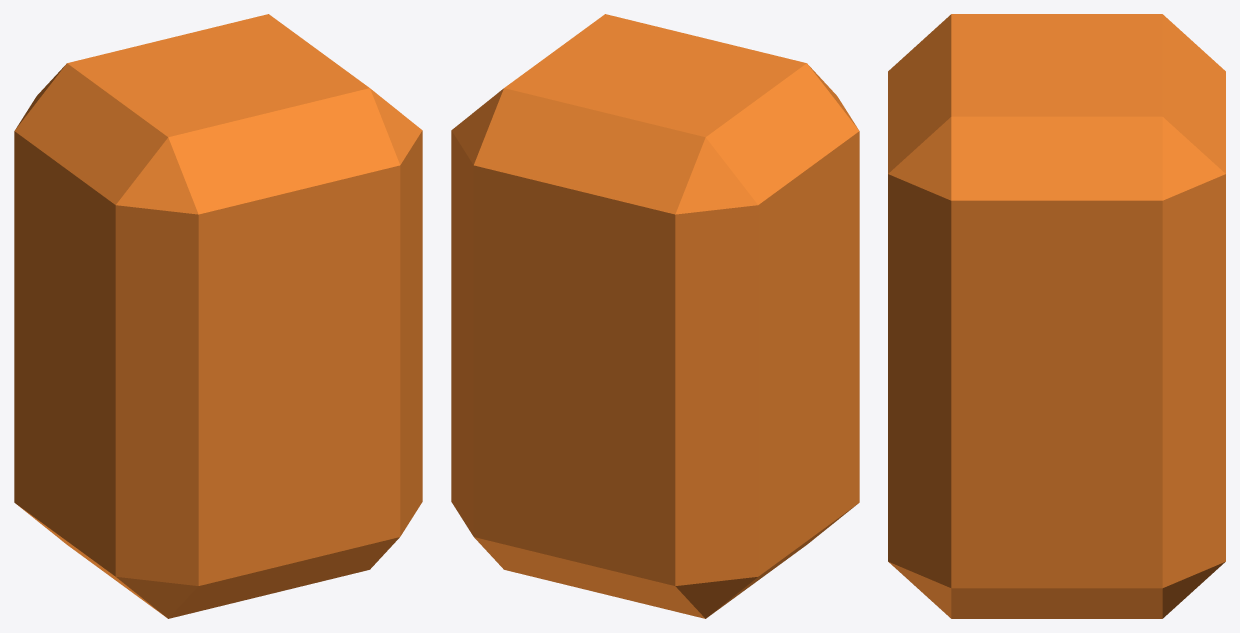
Rendered from tank_auxiliary.glb.
3 renders of one model, left to right at view 1: azimuth 30°, elevation 25°; view 2: azimuth 150°, elevation 25°; view 3: azimuth 270°, elevation 25°, orthographic. The views are drawn at different scales.
Visible parts, largest first — view 1: auxiliary_tank; view 2: auxiliary_tank; view 3: auxiliary_tank.
Part boxes in pixels (x1,y1,x2,y2): auxiliary_tank: (14,14,422,618); auxiliary_tank: (451,14,859,618); auxiliary_tank: (888,14,1225,618).
Bounding box in the file's own units: 0.7 × 1.05 × 0.64.
